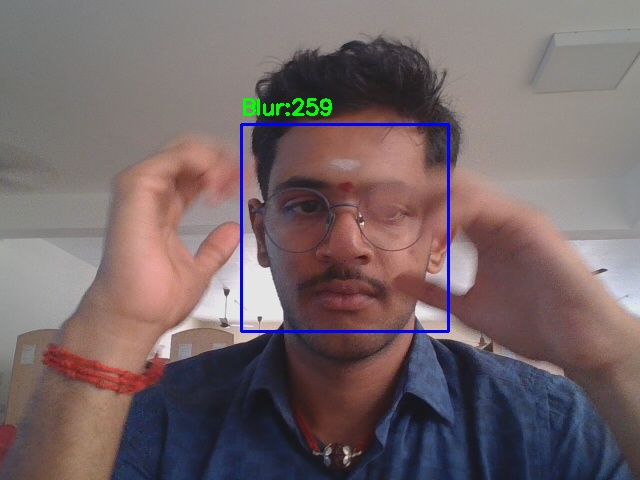real: (241, 124, 448, 331)
